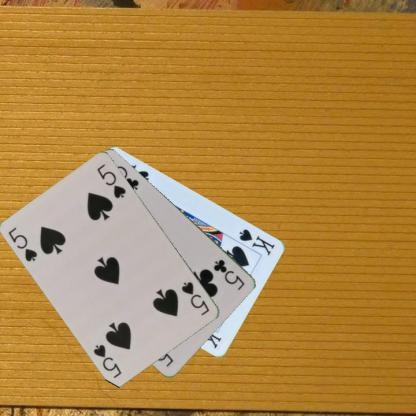5c: (211, 256, 247, 292)
5s: (6, 224, 39, 264), (178, 279, 211, 317)
Ks: (237, 226, 276, 257)
